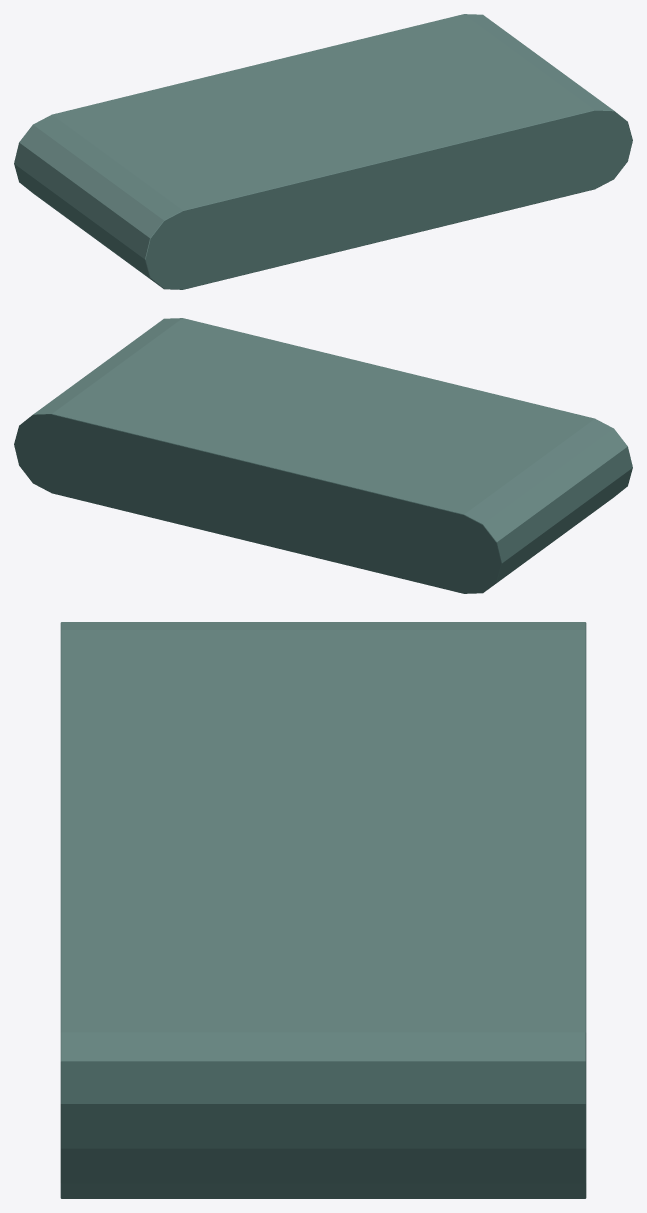
The model's file is OneWay.gltf.
3 renders of one model, top to bottom at view 1: azimuth 30°, elevation 25°; view 2: azimuth 150°, elevation 25°; view 3: azimuth 270°, elevation 25°, orthographic. The views are drawn at different scales.
Parts seen in each view (by area): view 1: OneWay_baked; view 2: OneWay_baked; view 3: OneWay_baked.
Boxes of the visible parts, x1=… form: OneWay_baked: x1=14, y1=14, x2=632, y2=289; OneWay_baked: x1=14, y1=318, x2=632, y2=593; OneWay_baked: x1=60, y1=622, x2=586, y2=1198.
Bounding box in the file's own units: 0.9 × 0.155 × 0.42.
